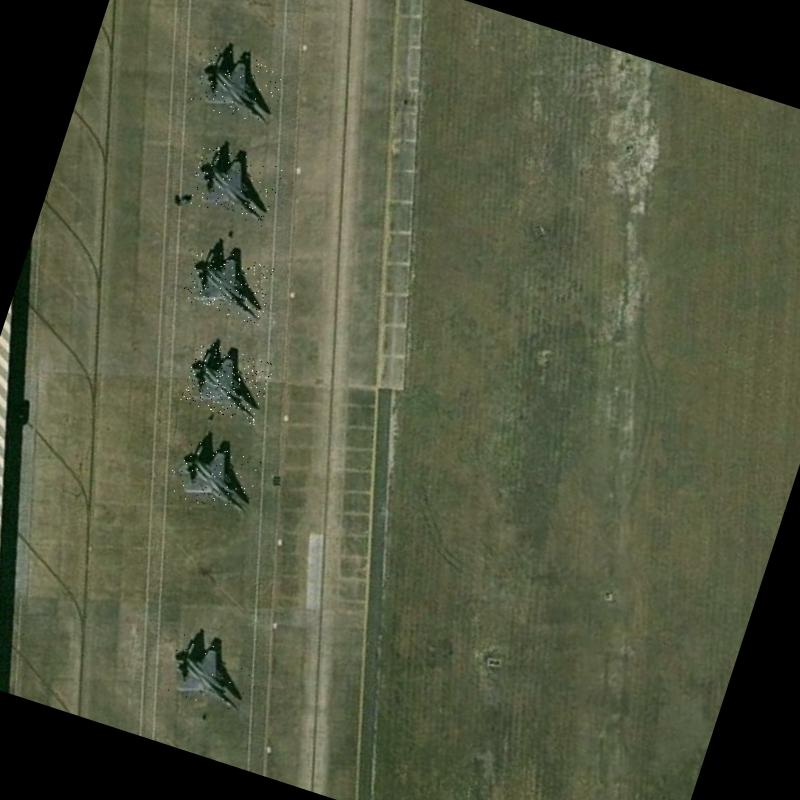A13: (189, 44, 290, 132), (186, 143, 284, 228), (180, 340, 275, 426), (181, 243, 278, 326), (164, 436, 262, 518), (163, 633, 257, 714)
